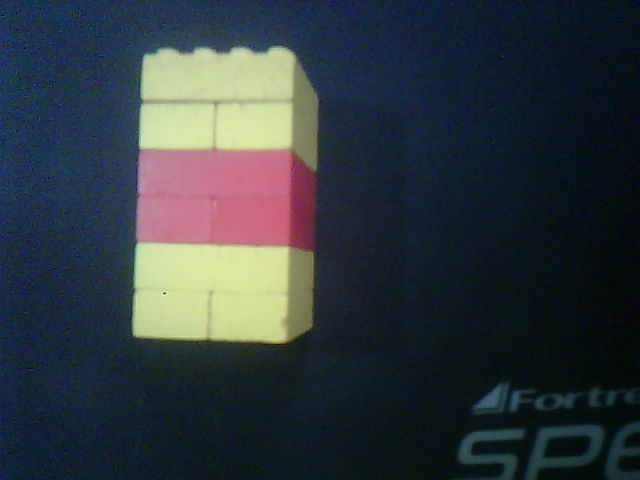lego: (130, 45, 320, 345)
